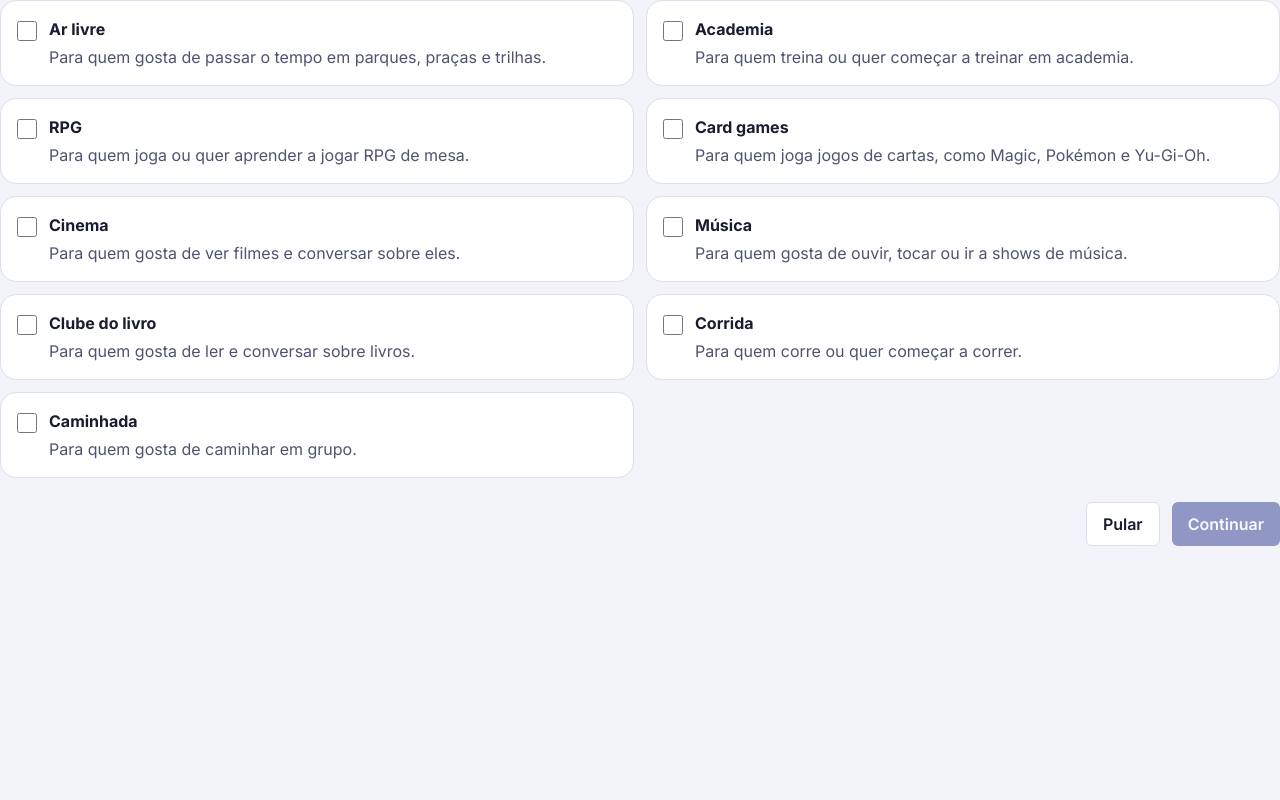
passo Escolha suas comunidades › pede confirmação e envia todas as marcadas de uma vez
Later steps or results of the test are not shown.
Click the checkbox labelled "RPG Para quem joga ou quer aprender a jogar RPG de mesa.".
click(27, 129)  # box [17,119,37,139]
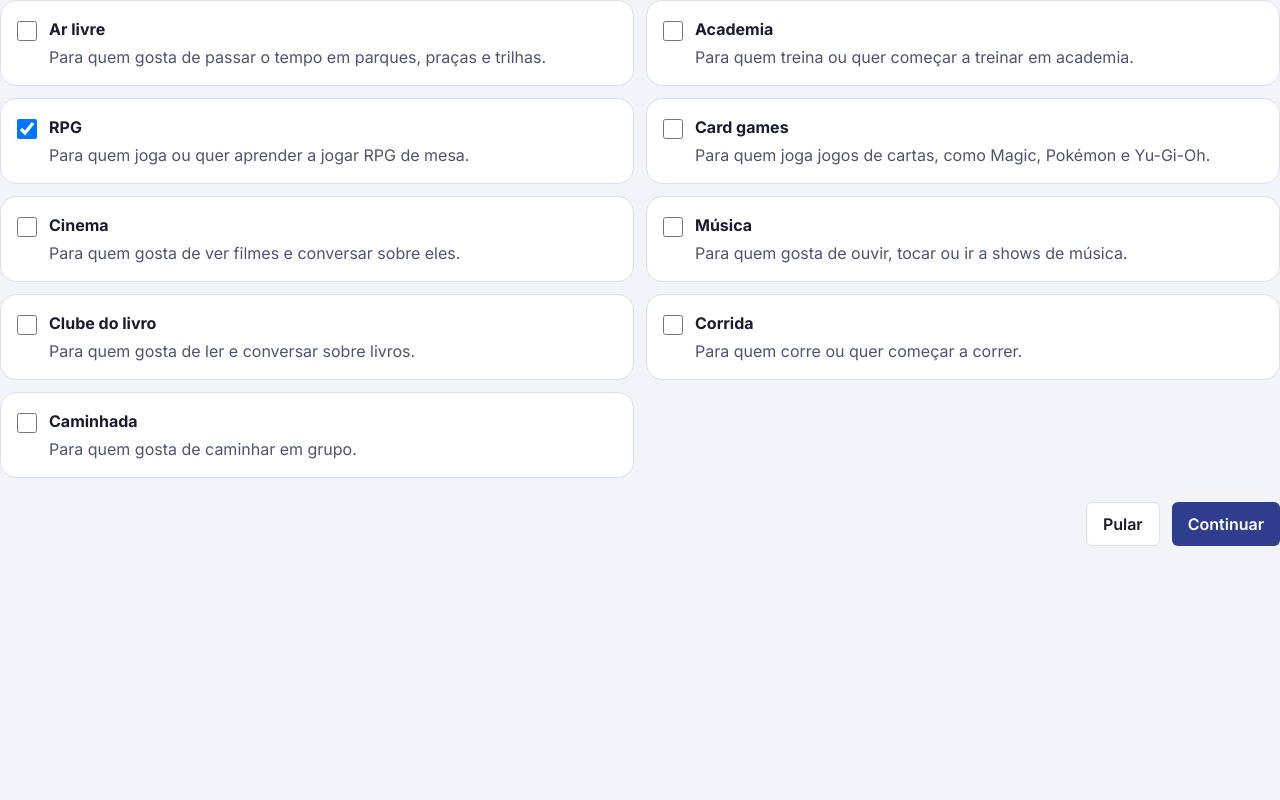
Click the checkbox labelled "Cinema Para quem gosta de ver filmes e conversar sobre eles.".
click(27, 227)  # box [17,217,37,237]
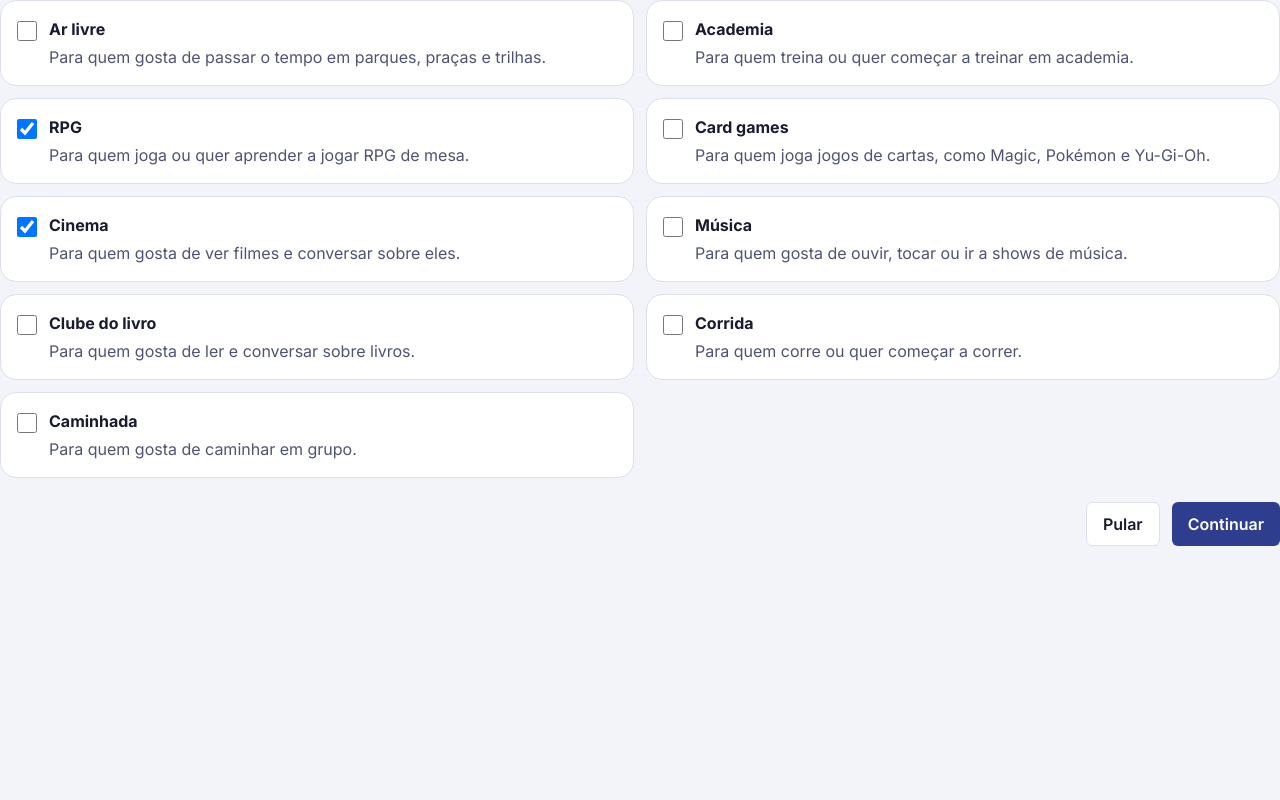
Click the button "Continuar".
click(1226, 524)  # box [1172,502,1279,546]
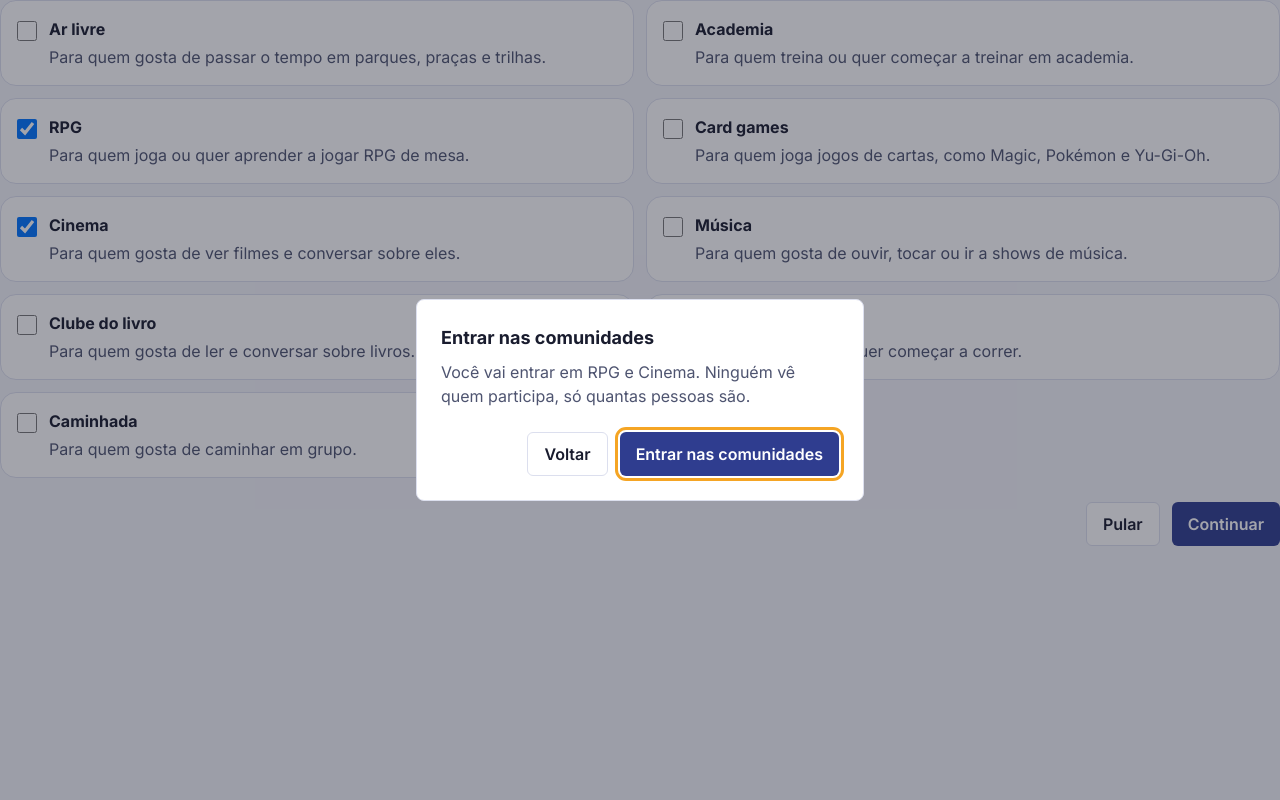
expect the dialog shows "Você vai entrar em RPG e Cinema.": met, box [441,362,795,406]
